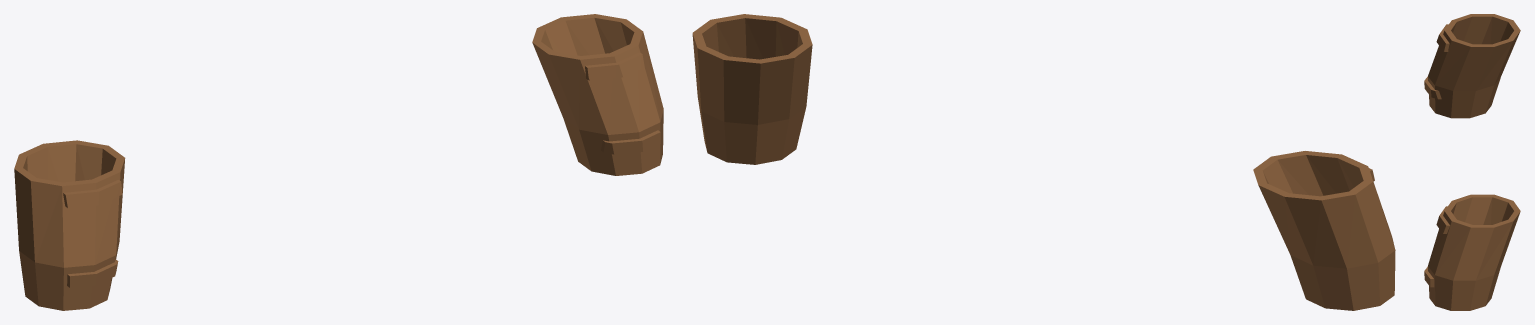
The model's file is leather_wrists-male.glb.
3 renders of one model, left to right at view 1: azimuth 30°, elevation 25°; view 2: azimuth 150°, elevation 25°; view 3: azimuth 270°, elevation 25°, orthographic. The views are drawn at different scales.
Visible parts, largest first — view 1: leather wrist guard -1, leather wrist guard 1, Bracer rolled upper lip 1, Bracer rolled upper lip -1, Bracer lower fastening strap 1, Bracer lower fastening strap -1; view 2: leather wrist guard -1, leather wrist guard 1; view 3: leather wrist guard 1, leather wrist guard -1, Bracer rolled upper lip 1, Bracer rolled upper lip -1, Bracer lower fastening strap -1, Bracer lower fastening strap 1.
Part boxes in pixels (x1,y1,x2,y2): leather wrist guard -1: (14, 140, 125, 310); leather wrist guard 1: (532, 14, 663, 175); Bracer rolled upper lip 1: (585, 52, 644, 80); Bracer rolled upper lip -1: (63, 180, 122, 208); Bracer lower fastening strap 1: (601, 130, 660, 154); Bracer lower fastening strap -1: (67, 259, 118, 287); leather wrist guard -1: (1253, 151, 1395, 310); leather wrist guard 1: (692, 14, 812, 164); leather wrist guard 1: (1428, 194, 1520, 310); leather wrist guard -1: (1428, 14, 1520, 118); Bracer rolled upper lip 1: (1436, 206, 1449, 233); Bracer rolled upper lip -1: (1436, 24, 1449, 51); Bracer lower fastening strap -1: (1424, 76, 1441, 99); Bracer lower fastening strap 1: (1424, 266, 1434, 287).
Bounding box in the file's own units: 3.64 × 0.63 × 0.6771.
